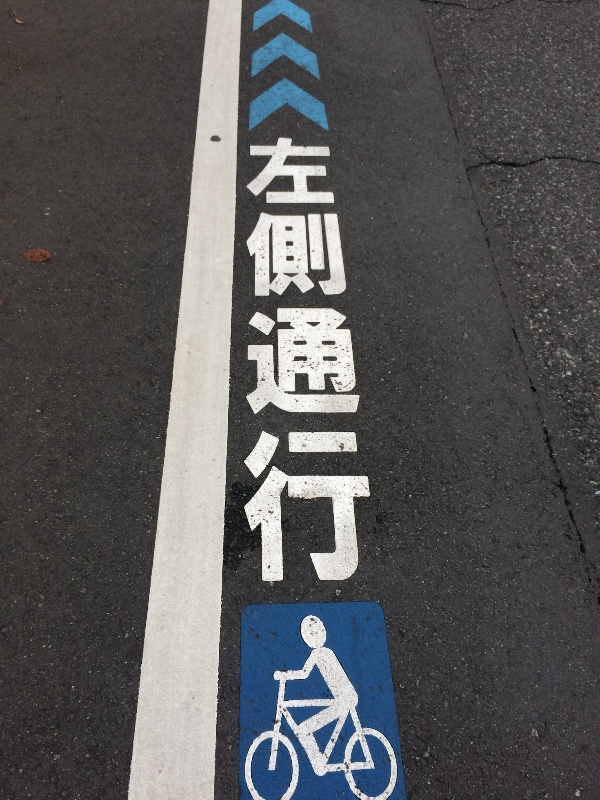text: (257, 130, 272, 594), (273, 130, 288, 594), (289, 130, 304, 594), (305, 130, 320, 594), (321, 130, 336, 594), (337, 130, 352, 594), (353, 130, 368, 594), (369, 130, 381, 594), (246, 130, 256, 594)
